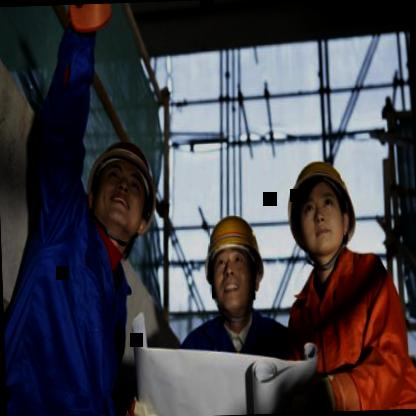helmet: (80, 132, 164, 254), (286, 153, 357, 268), (201, 206, 265, 317)
